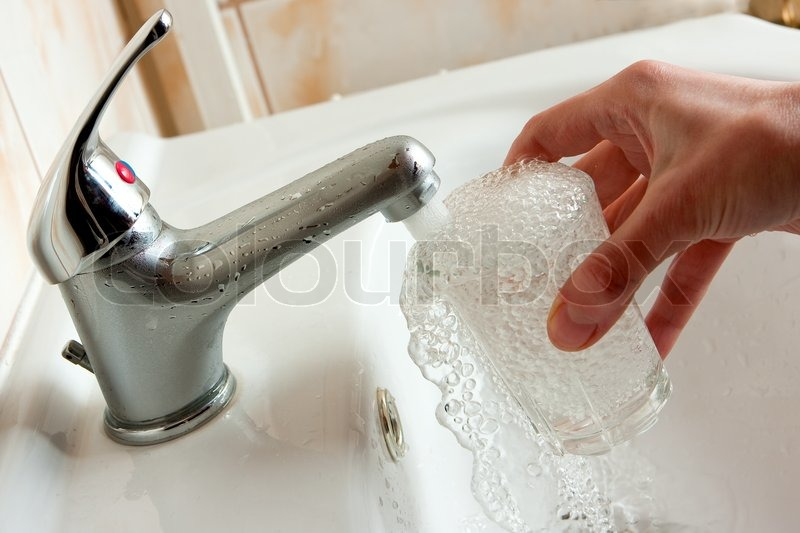glass of water: (445, 159, 672, 463)
